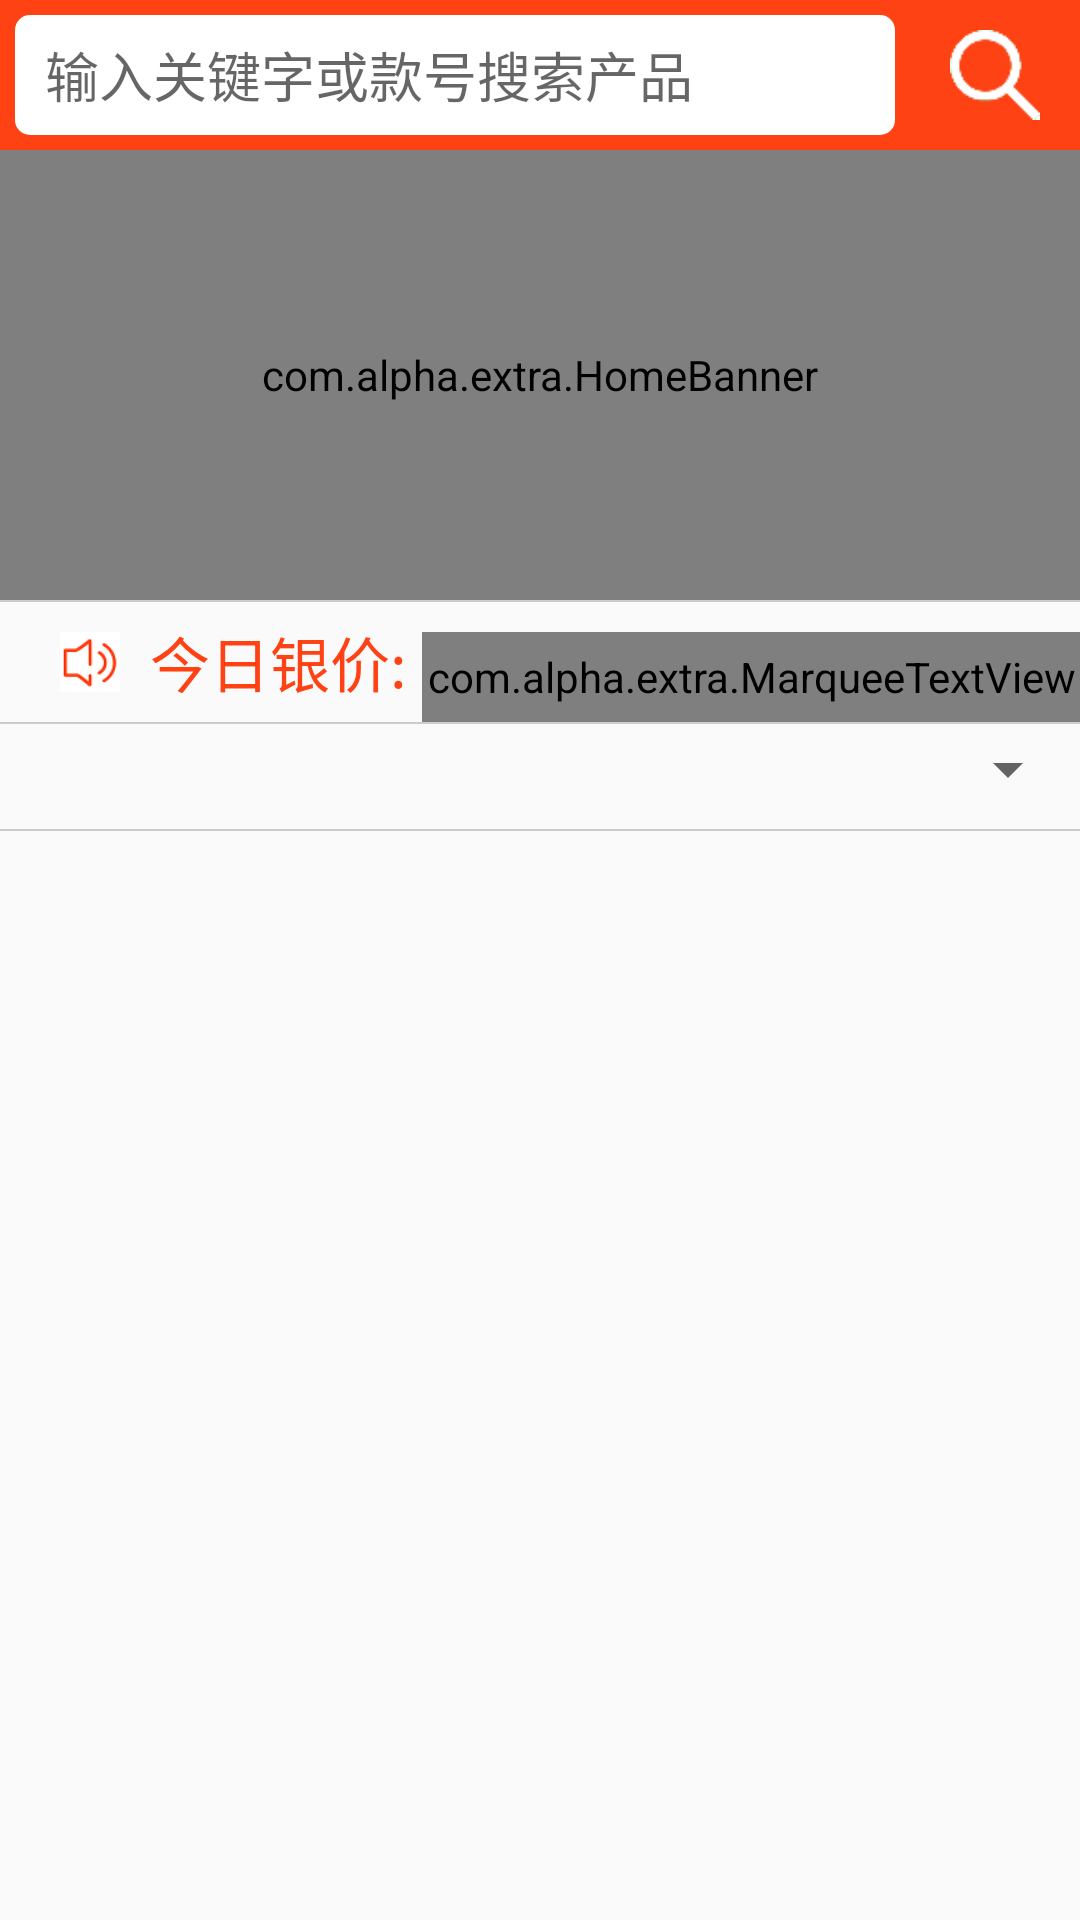

Icon click points for this 1080px x 1920px phone screenshot, format point (x, y):
laba: point (90, 663)
sousuo: point (995, 75)
